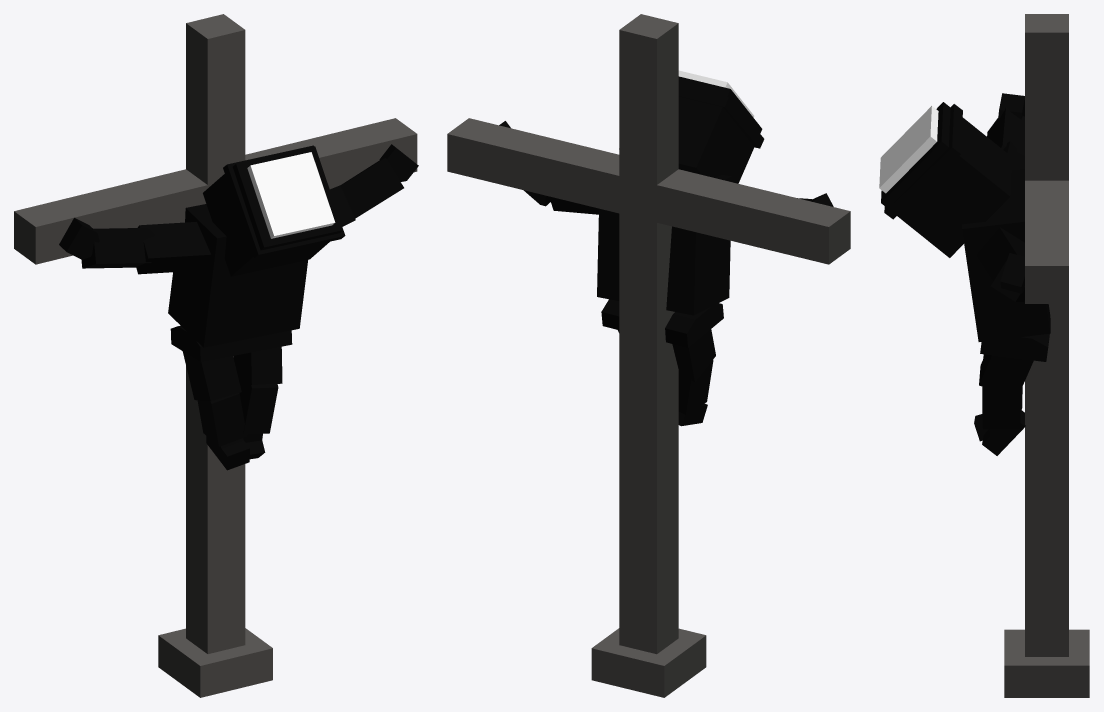
File: AI_Prop_Body_Cross.fbx
3 renders of one model, left to right at view 1: azimuth 30°, elevation 25°; view 2: azimuth 150°, elevation 25°; view 3: azimuth 270°, elevation 25°, orthographic.
Visible parts, largest first — view 1: AI_Prop_Body_Cross; view 2: AI_Prop_Body_Cross; view 3: AI_Prop_Body_Cross.
Boxes of the visible parts, bbox=[...] form: AI_Prop_Body_Cross: bbox=[14, 14, 418, 697]; AI_Prop_Body_Cross: bbox=[447, 14, 850, 697]; AI_Prop_Body_Cross: bbox=[879, 14, 1089, 697].
Bounding box in the file's own units: 3.47 × 5.62 × 1.63.
